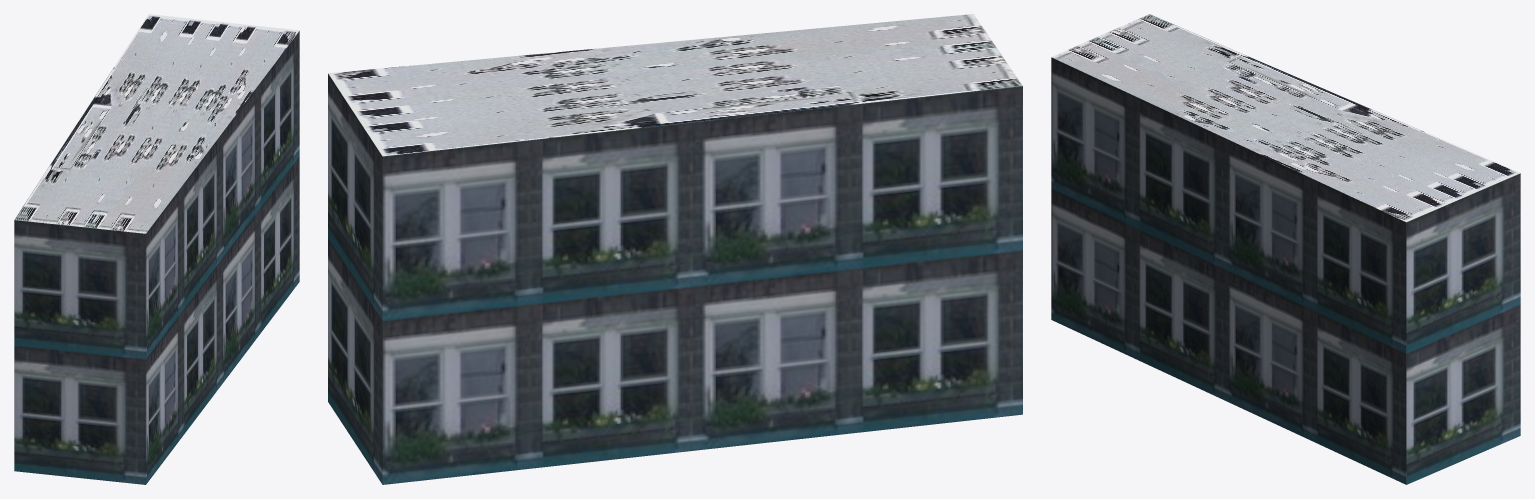
The model's file is ResTex__1691.fbx.
3 renders of one model, left to right at view 1: azimuth 30°, elevation 25°; view 2: azimuth 150°, elevation 25°; view 3: azimuth 270°, elevation 25°, orthographic. The views are drawn at different scales.
Parts seen in each view (by area): view 1: CityEngineMaterial_11_m, CityEngineMaterial_2_m; view 2: CityEngineMaterial_11_m, CityEngineMaterial_2_m; view 3: CityEngineMaterial_11_m, CityEngineMaterial_2_m.
Part boxes in pixels (box(x1,y1,x2,y2)): CityEngineMaterial_11_m: box(14, 31, 299, 484); CityEngineMaterial_2_m: box(14, 14, 299, 233); CityEngineMaterial_11_m: box(328, 74, 1022, 484); CityEngineMaterial_2_m: box(328, 14, 1022, 156); CityEngineMaterial_11_m: box(1051, 57, 1520, 484); CityEngineMaterial_2_m: box(1051, 14, 1520, 222).
Bounding box in the file's own units: 10.21 × 6 × 9.72.
2 materials, 2 textured.
